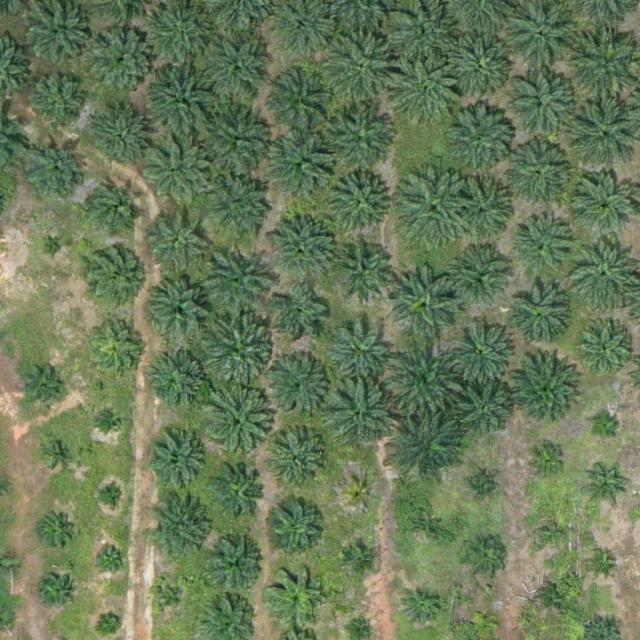Healthy: (143, 62, 221, 141), (199, 102, 277, 181), (322, 28, 400, 107), (389, 56, 467, 135), (441, 25, 519, 104), (439, 101, 517, 180), (503, 69, 581, 148), (394, 170, 472, 249), (385, 339, 463, 418), (390, 408, 468, 487), (198, 313, 276, 391), (198, 387, 276, 465), (509, 358, 580, 429), (202, 35, 273, 105), (269, 66, 339, 137), (325, 107, 395, 178), (447, 315, 517, 386), (391, 265, 461, 336), (327, 382, 398, 452), (268, 216, 338, 287), (204, 173, 274, 243), (202, 247, 272, 317), (142, 139, 212, 209), (27, 7, 90, 70), (92, 31, 155, 94), (574, 319, 637, 382), (512, 216, 575, 279), (507, 284, 570, 347), (150, 278, 213, 341), (84, 243, 147, 306), (87, 319, 150, 382), (265, 564, 328, 627), (90, 109, 152, 172), (575, 177, 637, 240), (505, 144, 567, 207), (451, 174, 513, 237), (330, 320, 392, 383), (270, 286, 332, 349), (267, 354, 329, 417), (144, 205, 206, 268), (149, 353, 211, 416), (147, 433, 209, 496), (83, 177, 145, 240), (152, 496, 214, 559), (453, 246, 515, 308), (328, 171, 390, 233), (334, 239, 396, 301), (273, 136, 335, 198), (29, 76, 84, 131), (459, 384, 514, 439), (274, 435, 329, 490), (209, 538, 264, 593), (214, 467, 269, 522), (30, 142, 84, 198), (270, 495, 324, 550), (533, 515, 572, 554)
Small: (22, 369, 61, 409), (466, 538, 505, 578), (585, 470, 624, 510), (39, 573, 78, 613), (404, 588, 443, 627), (526, 442, 565, 481), (406, 507, 445, 546), (540, 582, 571, 614), (41, 513, 72, 545), (587, 547, 618, 579), (465, 471, 496, 503), (470, 607, 501, 639), (346, 544, 377, 575), (590, 415, 621, 446), (156, 583, 187, 614), (96, 543, 127, 574), (42, 237, 66, 261), (103, 410, 127, 434), (99, 484, 122, 508), (48, 442, 71, 466), (101, 611, 124, 635), (355, 624, 370, 639)
Yellow: (346, 481, 377, 512)
